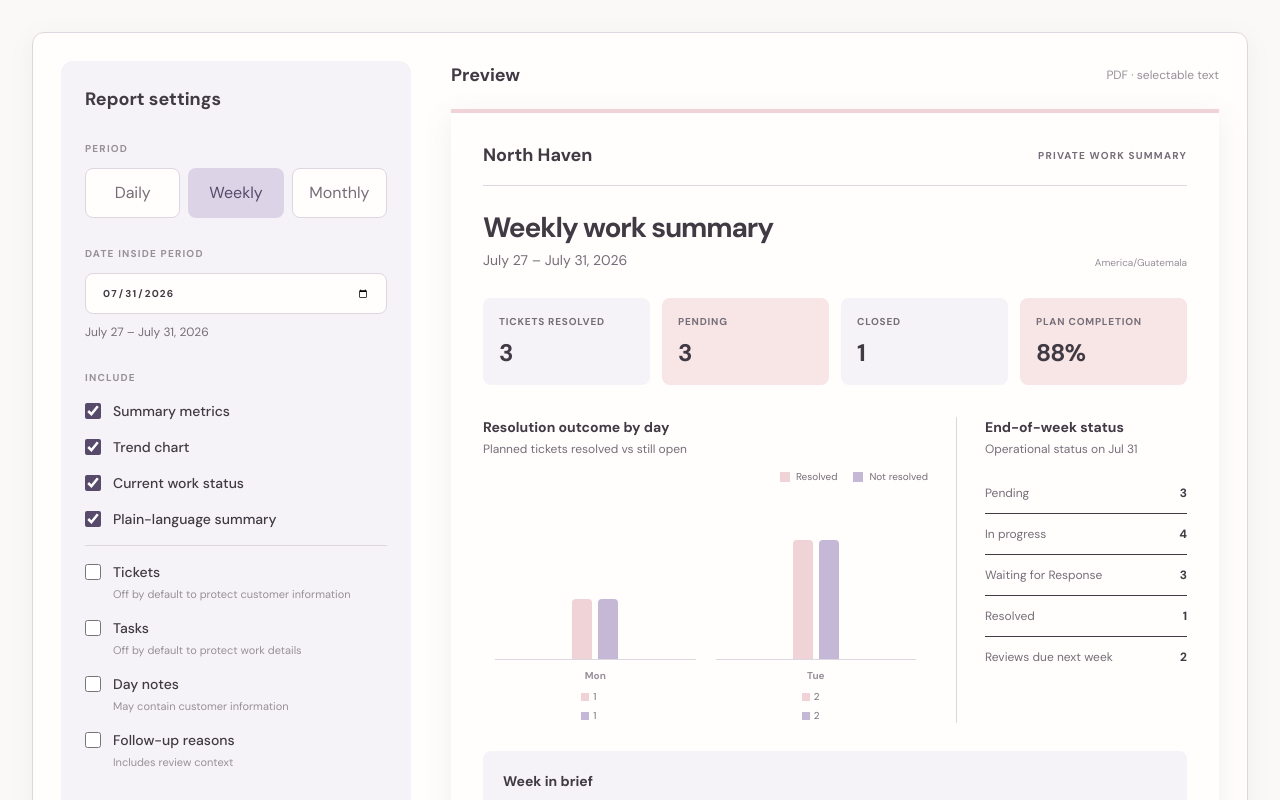
Test case: Report Builder › warns before details and offers the accessible CSV preview
This screenshot has width=1280, height=800.
Click the checkbox labelled "Tickets Off by default to protect customer information" at {"x": 93, "y": 572}, box [85,564,101,580]
(page scrolled)
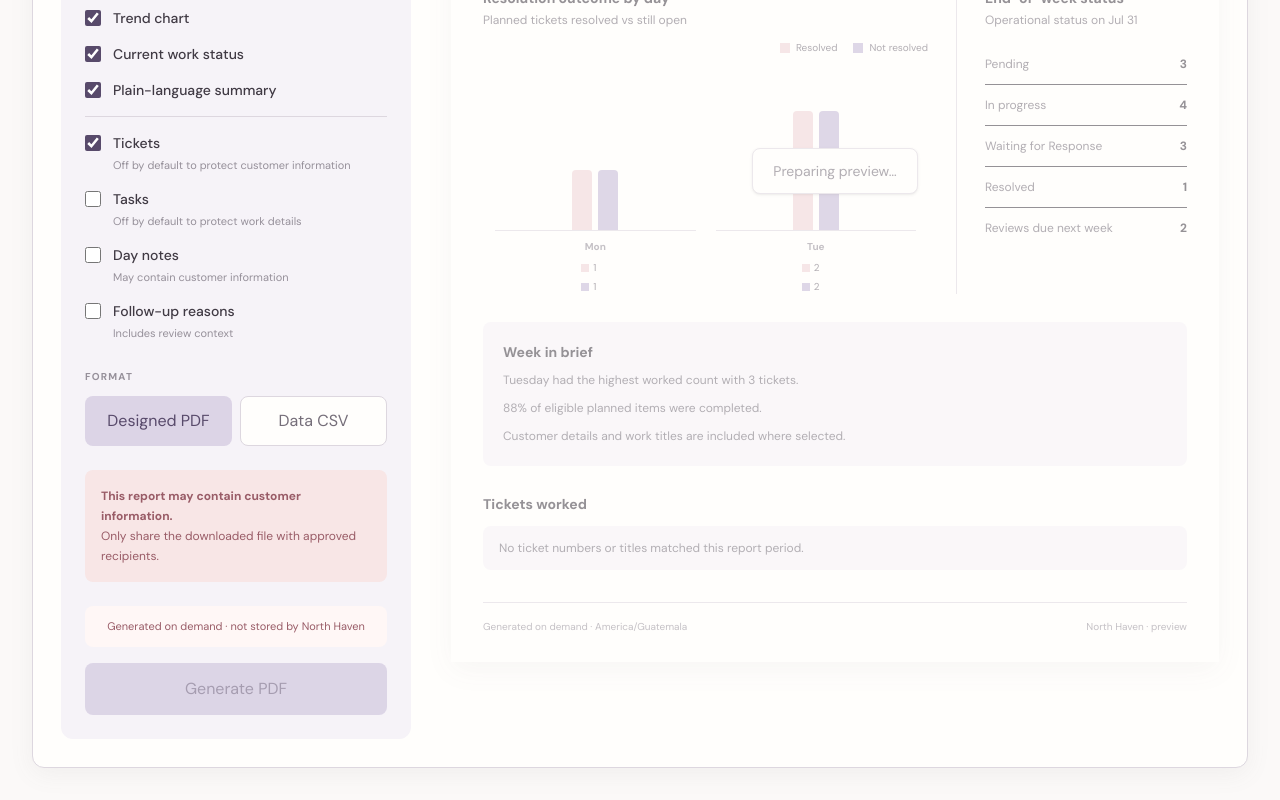
Expected: the text "This report may contain customer information." is shown, [101,488,301,524]
Click the button "Data CSV" at {"x": 314, "y": 421}, box [240,396,387,446]
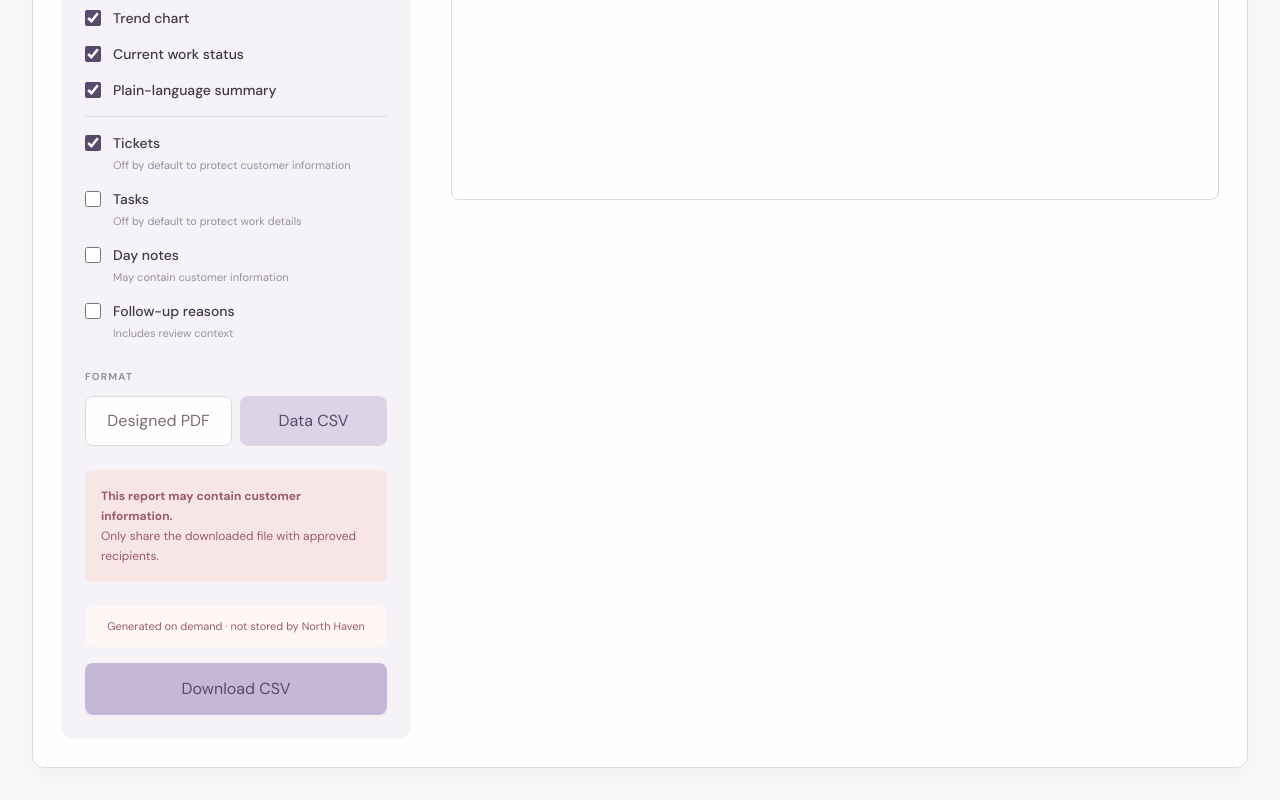
Expected: the button "Download CSV" is enabled, [85,662,387,714]
